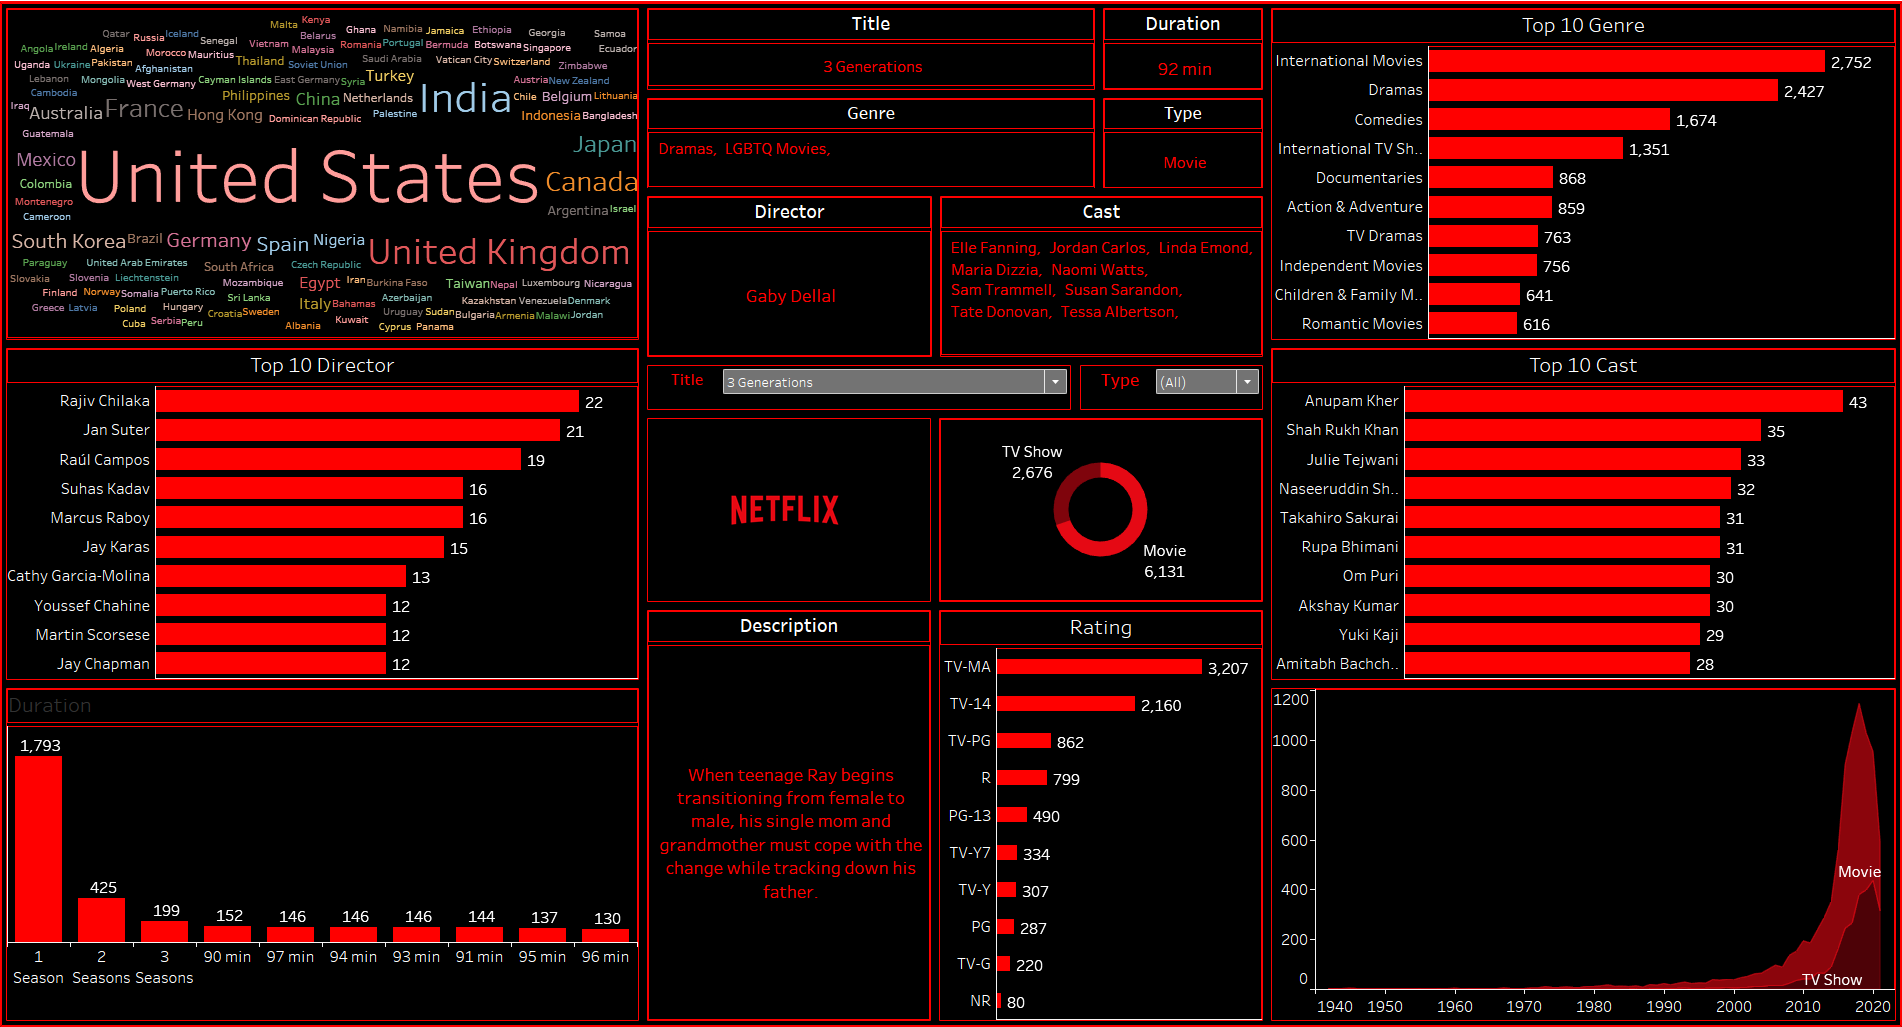

The page's visual inventory and layout, read from the dashboard file:
{"tool":"tableau","page":{"name":"Dashboard 1","canvas":[1000,1000],"units":"permille","ordinal":0},"visuals":[{"type":"worksheet","title":"Country","mark":"Text","box":[6.6,12.9,333.4,324.3]},{"type":"worksheet","title":"Show Title","mark":"Automatic","box":[340,12.9,236.8,85.4]},{"type":"worksheet","title":"Show Duration","mark":"Automatic","box":[576.8,12.9,87.3,85.4]},{"type":"worksheet","title":"Top 10 Genre","mark":"Automatic","rows":["listed_in"],"cols":["Calculation_1211749824408596480"],"box":[664.1,12.9,329.2,324.3]},{"type":"worksheet","title":"Show Genre","mark":"Automatic","box":[340,98.4,236.9,94.1]},{"type":"worksheet","title":"Show Type","mark":"Automatic","box":[577,98.4,87.2,94.1]},{"type":"worksheet","title":"Show Director","mark":"Automatic","box":[340,192.5,152.2,161.2]},{"type":"worksheet","title":"Show Cast","mark":"Automatic","box":[492.3,192.5,171.9,161.2]},{"type":"worksheet","title":"Top 10 Director","mark":"Automatic","rows":["director"],"cols":["Calculation_1211749824408596480"],"box":[6.6,337.2,333.4,324.6]},{"type":"worksheet","title":"Top 10 Cast","mark":"Automatic","rows":["cast"],"cols":["Calculation_1211749824408596480"],"box":[664.1,337.2,329.2,324.6]},{"type":"filter","title":"Show Description","param":"[federated.111yxpk1ozunc01ai0ggy06lsw59].[none:title:nk]","box":[340,353.6,224.8,50.5]},{"type":"filter","title":"Type","param":"[federated.111yxpk1ozunc01ai0ggy06lsw59].[none:type:nk]","box":[564.8,353.6,99.3,50.5]},{"type":"image","param":"C:/Users/VIVEK/Downloads/Netflix.jpg","box":[340,404.2,151.7,183.3]},{"type":"worksheet","title":"Type","mark":"Pie","rows":["Calculation_1342354213604261889","Calculation_1342354213604261889"],"box":[491.8,404.2,172.4,183.3]},{"type":"worksheet","title":"Show Description","mark":"Automatic","box":[340,587.5,151.7,399.6]},{"type":"worksheet","title":"Rating","mark":"Automatic","rows":["rating"],"cols":["Calculation_1211749824408596480"],"box":[491.7,587.5,172.4,399.6]},{"type":"worksheet","title":"Duration","mark":"Automatic","rows":["Calculation_1211749824408596480"],"cols":["duration"],"box":[6.6,661.8,333.4,325.2]},{"type":"worksheet","title":"Year","mark":"Area","rows":["Calculation_1211749824408596480"],"cols":["release_year"],"box":[664.1,661.8,329.2,325.2]}]}

Visuals, with their boxes on the dashboard's canvas, which has no fixed pixel size, in thousandths of its width and height (x1, y1, x2, y2). These are canvas units, not pixel positions in the 1902x1027 screenshot, which may show the page scaled, cropped or inside an application window:
"Country" worksheet (Text marks): bbox=[7, 13, 340, 337]
"Show Title" worksheet: bbox=[340, 13, 577, 98]
"Show Duration" worksheet: bbox=[577, 13, 664, 98]
"Top 10 Genre" worksheet: bbox=[664, 13, 993, 337]
"Show Genre" worksheet: bbox=[340, 98, 577, 192]
"Show Type" worksheet: bbox=[577, 98, 664, 192]
"Show Director" worksheet: bbox=[340, 192, 492, 354]
"Show Cast" worksheet: bbox=[492, 192, 664, 354]
"Top 10 Director" worksheet: bbox=[7, 337, 340, 662]
"Top 10 Cast" worksheet: bbox=[664, 337, 993, 662]
"Show Description" filter: bbox=[340, 354, 565, 404]
"Type" filter: bbox=[565, 354, 664, 404]
image: bbox=[340, 404, 492, 588]
"Type" worksheet (Pie marks): bbox=[492, 404, 664, 588]
"Show Description" worksheet: bbox=[340, 588, 492, 987]
"Rating" worksheet: bbox=[492, 588, 664, 987]
"Duration" worksheet: bbox=[7, 662, 340, 987]
"Year" worksheet (Area marks): bbox=[664, 662, 993, 987]
